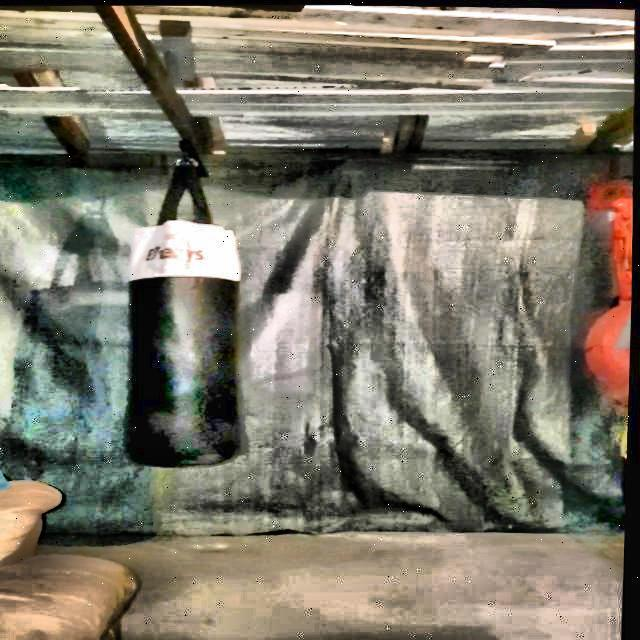boxing-bag: (117, 134, 252, 471)
